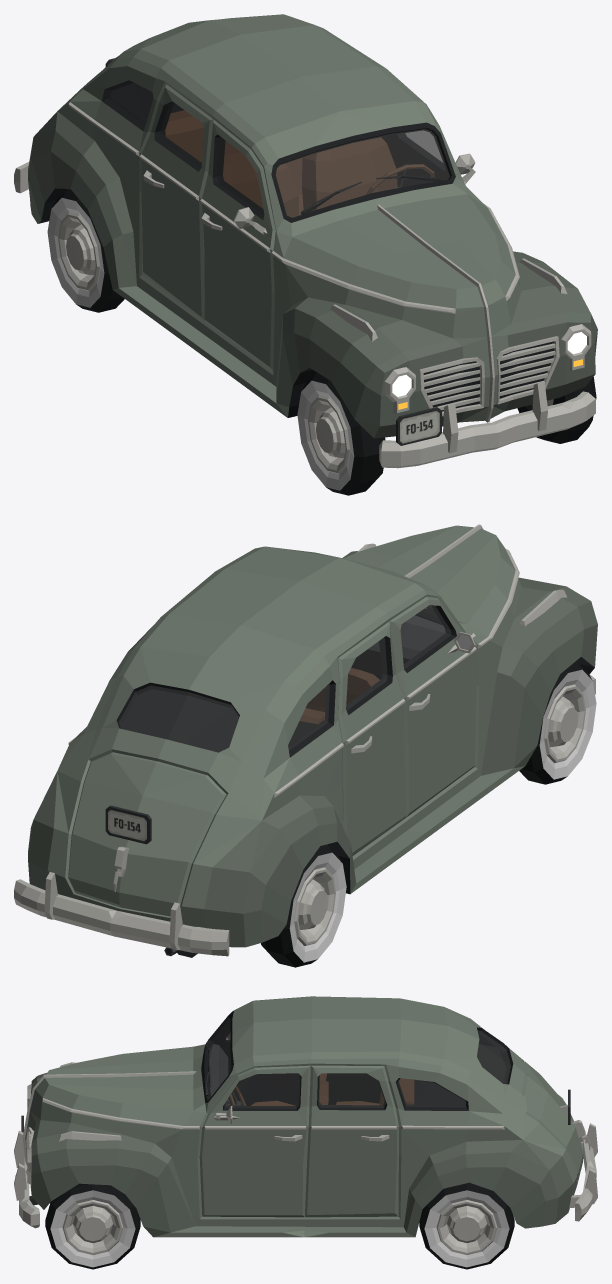
File: Car_01.fbx
3 renders of one model, top to bottom at view 1: azimuth 30°, elevation 25°; view 2: azimuth 150°, elevation 25°; view 3: azimuth 270°, elevation 25°, orthographic. The views are drawn at different scales.
Visible parts, largest first — view 1: Car_01, Car_01_Glass; view 2: Car_01, Car_01_Glass; view 3: Car_01, Car_01_Glass.
Part boxes in pixels (bbox=[...]): Car_01: bbox=[14, 14, 597, 495]; Car_01_Glass: bbox=[108, 82, 449, 217]; Car_01: bbox=[14, 524, 597, 967]; Car_01_Glass: bbox=[119, 605, 451, 752]; Car_01: bbox=[14, 996, 597, 1269]; Car_01_Glass: bbox=[206, 1018, 510, 1108].
Bounding box in the file's own units: 1.76 × 1.88 × 4.75.
